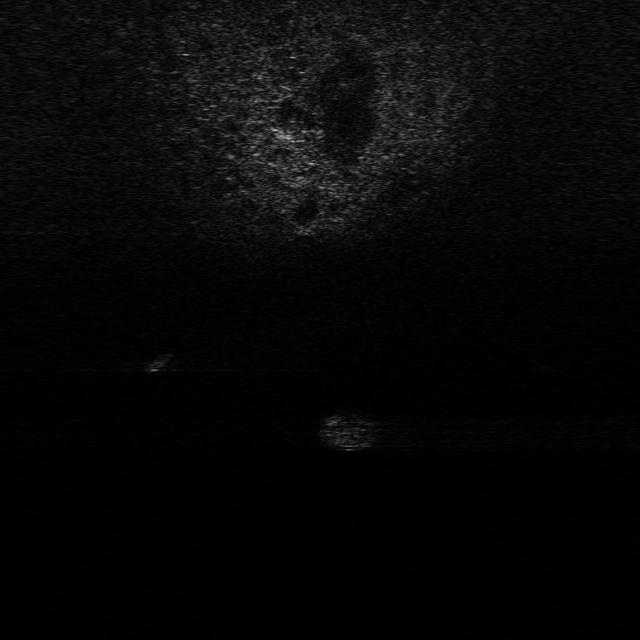circle cage: (320, 411, 396, 454)
cylinder: (144, 351, 180, 377)
